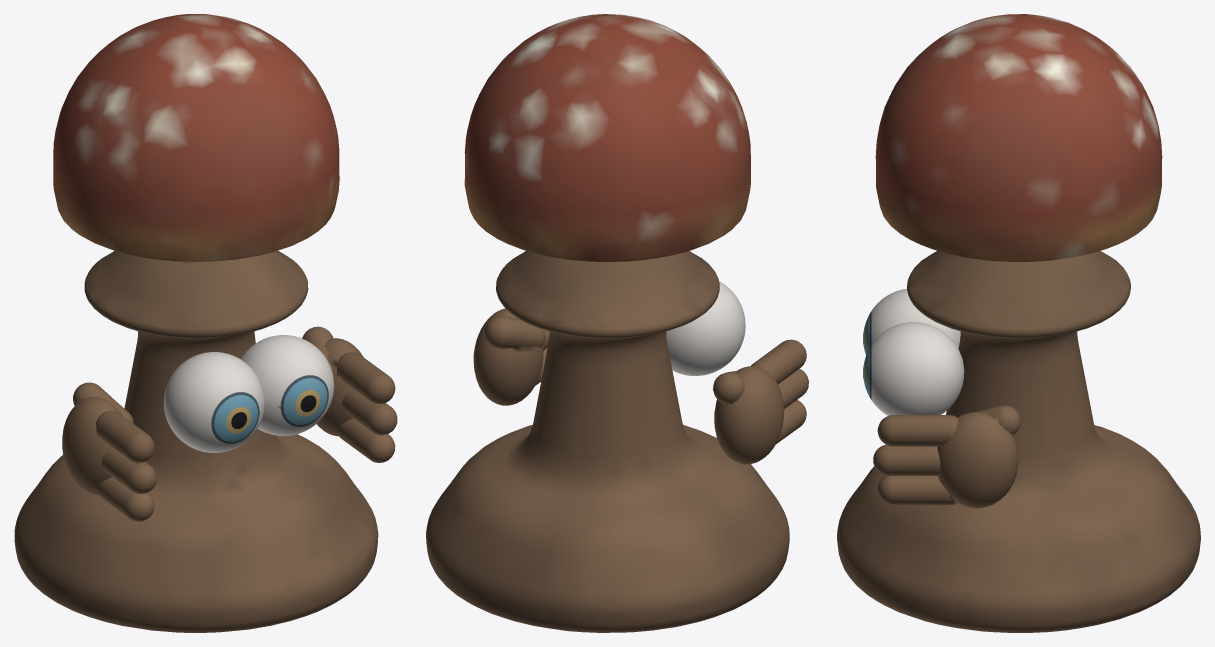
Rendered from pawn-dark.glb.
The picture shows the model from 3 angles, left to right: view 1: azimuth 30°, elevation 25°; view 2: azimuth 150°, elevation 25°; view 3: azimuth 270°, elevation 25°; orthographic projection.
Visible parts, largest first — view 1: body, eye, hand.1, hand.0; view 2: body, hand.1, hand.0, eye; view 3: body, hand.0, eye.
Boxes of the visible parts, x1,y1,x2,y2 form: body: [14, 14, 378, 632]; eye: [163, 335, 334, 452]; hand.1: [62, 382, 156, 521]; hand.0: [302, 326, 397, 462]; body: [426, 14, 789, 632]; hand.1: [713, 339, 808, 464]; hand.0: [473, 308, 549, 405]; eye: [666, 281, 745, 375]; body: [837, 14, 1200, 632]; hand.0: [873, 405, 1020, 508]; eye: [863, 289, 964, 415].
Size of the model in its own units: 1.73 by 2.83 by 1.73.
